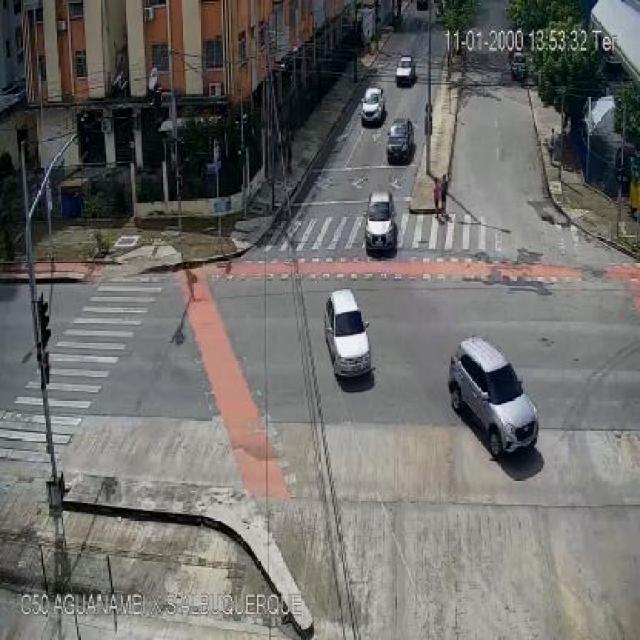Car: (448, 338, 540, 462), (325, 287, 372, 379), (361, 190, 398, 256), (386, 118, 415, 163), (361, 86, 385, 124), (395, 55, 416, 87), (511, 52, 525, 70)
